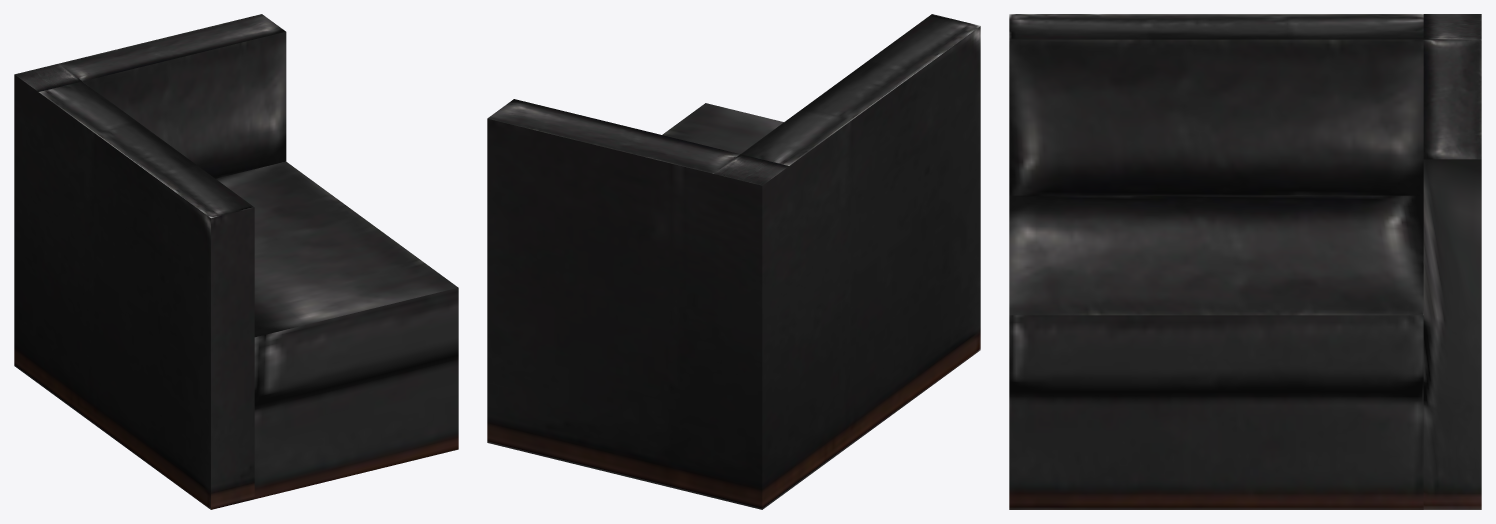
The model's file is sectionalR.fbx.
3 views of the same model, side by side, from view 1: azimuth 30°, elevation 25°; view 2: azimuth 150°, elevation 25°; view 3: azimuth 270°, elevation 25° (orthographic). The views are drawn at different scales.
Visible parts, largest first — view 1: sectionalR; view 2: sectionalR; view 3: sectionalR.
Boxes of the visible parts, box(x1,y1,x2,y2) form: sectionalR: box(14, 14, 458, 509); sectionalR: box(487, 14, 980, 509); sectionalR: box(1009, 14, 1481, 509).
Size of the model in its own units: 80 by 90.08 by 110.
1 material, 1 textured.
